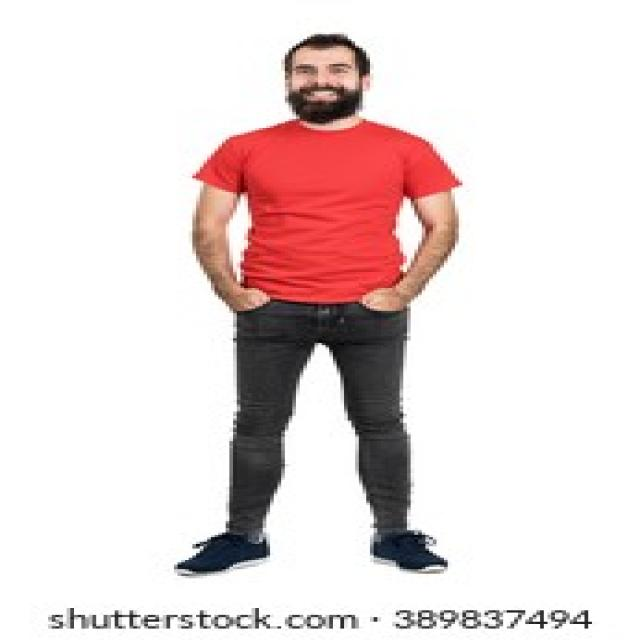standing: (159, 32, 473, 580)
